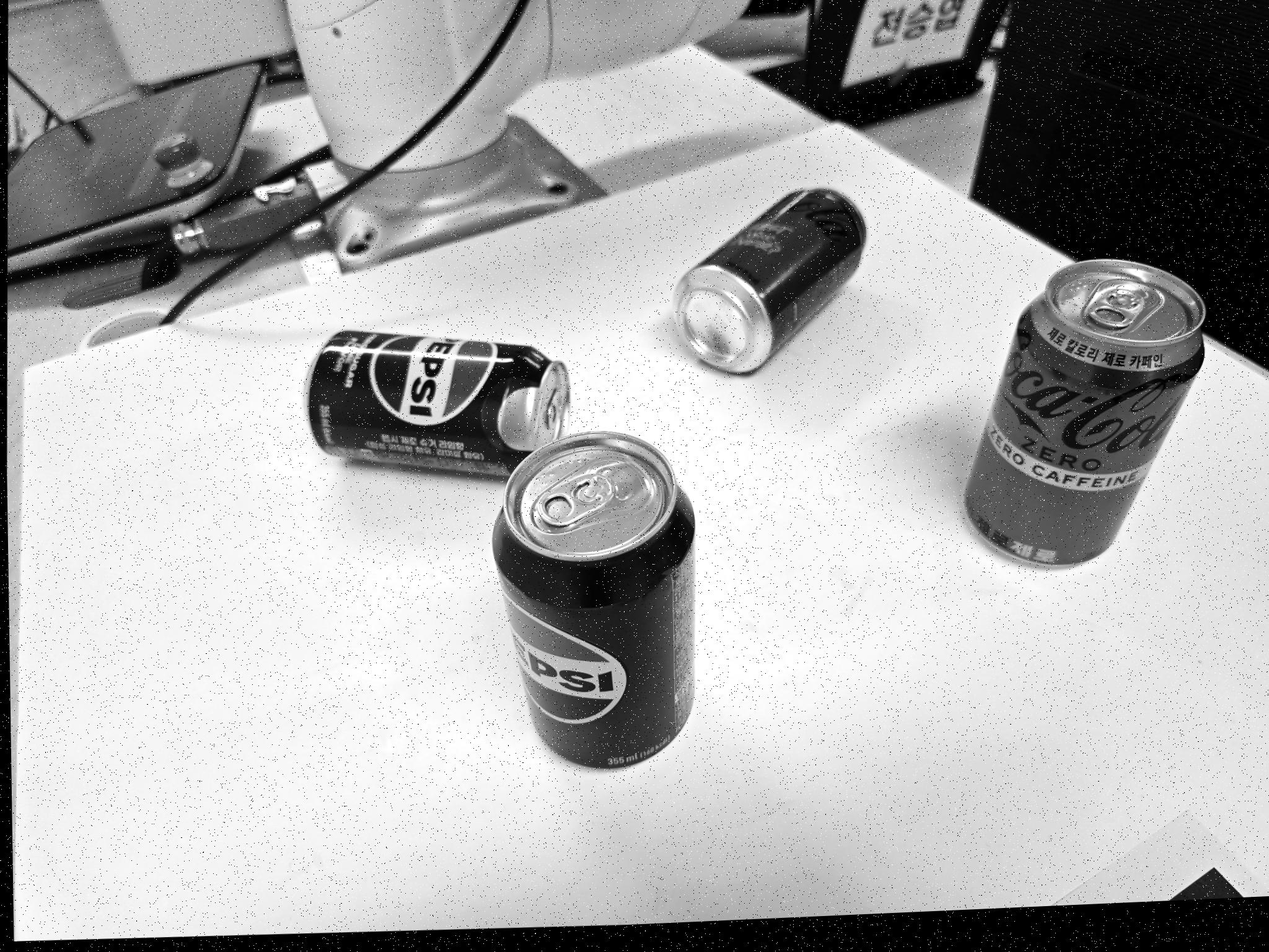can_coke_decaf: (965, 259, 1205, 565)
can_coke_zero: (674, 189, 865, 373)
can_pepsi: (492, 432, 694, 768)
can_pepsi_zero: (306, 330, 569, 476)
